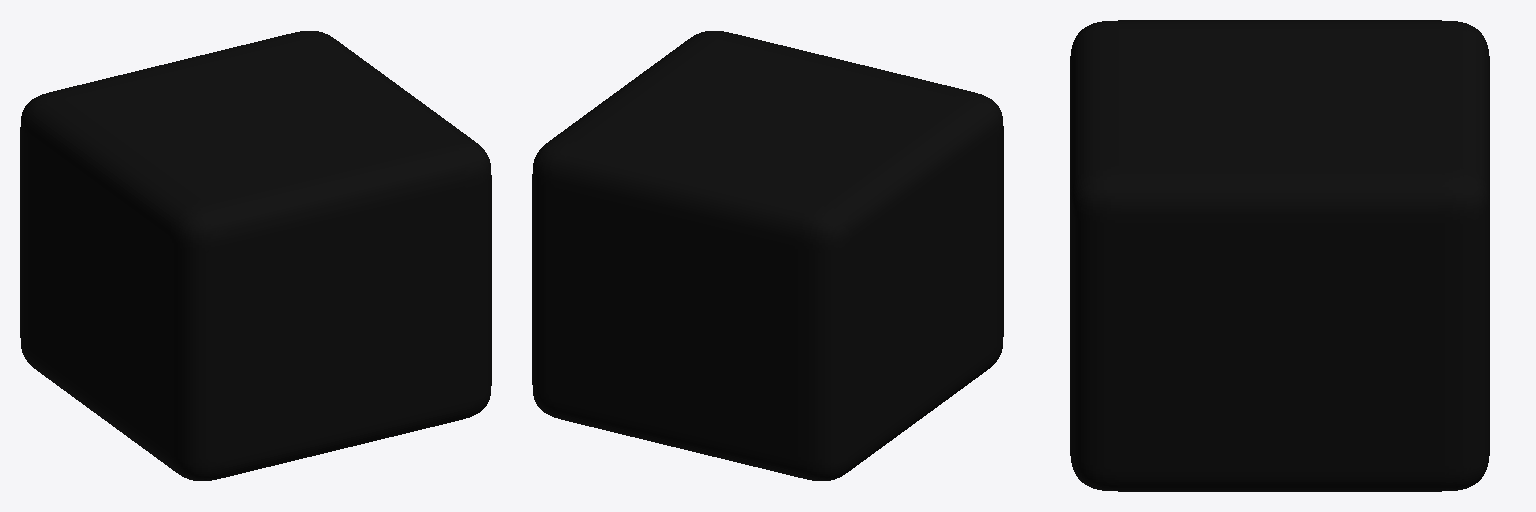
robot.urdf — block:
<robot name="block">
  <link name="block_base_link">
    <contact>
      <lateral_friction value="0.2"/>
      <rolling_friction value="0.001"/>
      <contact_cfm value="0.0"/>
      <contact_erp value="1.0"/>
    </contact>
    <inertial>
      <origin rpy="0 0 0" xyz="0 0 0"/>
      <mass value="0.05"/>
      <inertia ixx="0" ixy="0" ixz="0" iyy="0" iyz="0" izz="0"/>
    </inertial>
    <visual>
      <origin rpy="0 0 0" xyz="0 0 0"/>
      <geometry>
        <mesh filename="clevr_cube33.obj" scale="1 1 1"/>
      </geometry>
      <material name="tray_material">
        <color rgba="0.1 0.1 0.1 1"/>
      </material>
    </visual>
    <collision>
      <origin rpy="0 0 0" xyz="0 0 0"/>
      <geometry>
        <mesh filename="clevr_cube33.obj" scale="1 1 1"/>
      </geometry>
    </collision>
  </link>
</robot>

--- Render facts (derived) ---
The picture shows the robot from 3 angles, left to right: view 1: azimuth 30°, elevation 25°; view 2: azimuth 150°, elevation 25°; view 3: azimuth 270°, elevation 25°; orthographic projection.
Model block with 1 links and 0 joints (none), rooted at block_base_link, posed every joint at zero.
Visible links, largest first — view 1: block_base_link; view 2: block_base_link; view 3: block_base_link.
Boxes of the visible links, x1,y1,x2,y2 form: block_base_link: [20, 31, 491, 480]; block_base_link: [532, 31, 1003, 480]; block_base_link: [1070, 20, 1489, 491].
Size in the robot's own frame: 0.06 by 0.06 by 0.05 metres.
Meshes: 1 distinct files referenced, 1 mesh visuals loaded (1 OBJ).